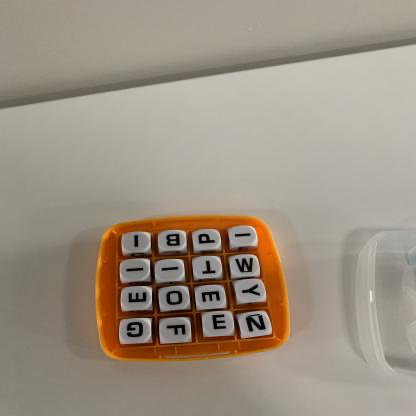b: (159, 231, 187, 252)
e: (204, 312, 236, 337), (122, 288, 153, 311), (197, 286, 227, 309)
f: (160, 319, 192, 344)
g: (120, 319, 153, 344)
i: (121, 259, 151, 283), (156, 260, 185, 281), (123, 233, 151, 253), (231, 227, 257, 247)
n: (240, 312, 272, 337)
o: (159, 287, 190, 311)
p: (194, 231, 222, 250)
t: (194, 257, 222, 279)
w: (231, 256, 260, 277)
y: (237, 280, 267, 303)
